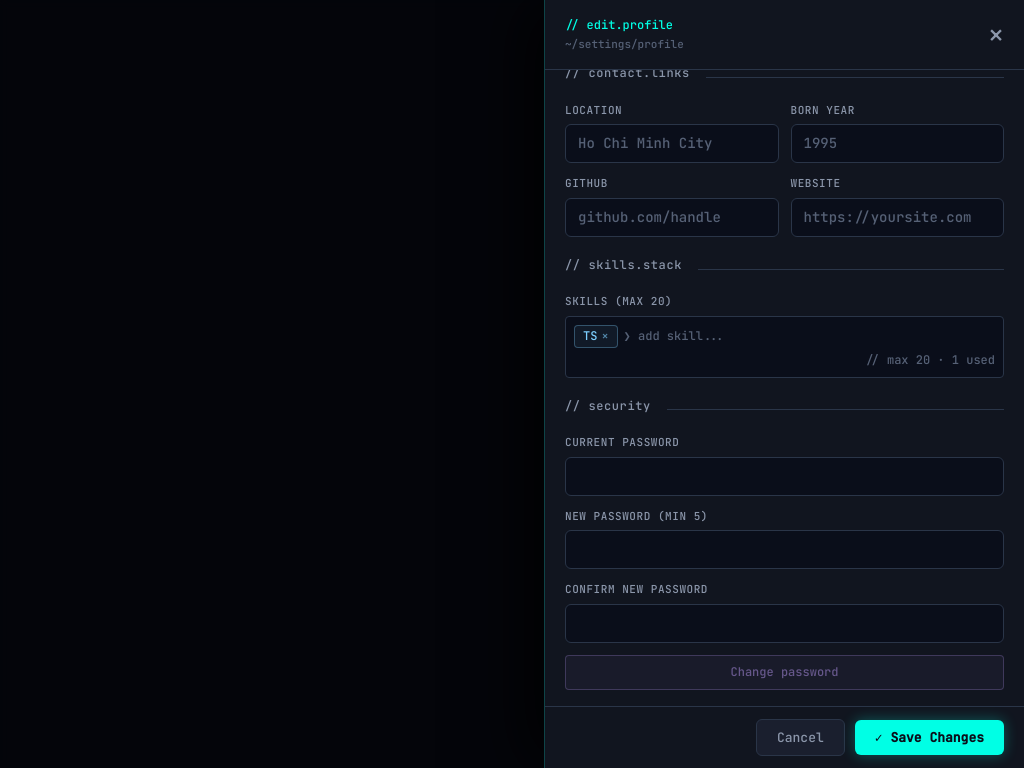
EditProfileDrawer (T-376, T-222, FR-11.3) › Change password — POST /auth/change-password 200 → "password changed" ok banner
(page scrolled)
In the password field labelled "Current password": (784, 476) [565,457,1004,496], type "old"
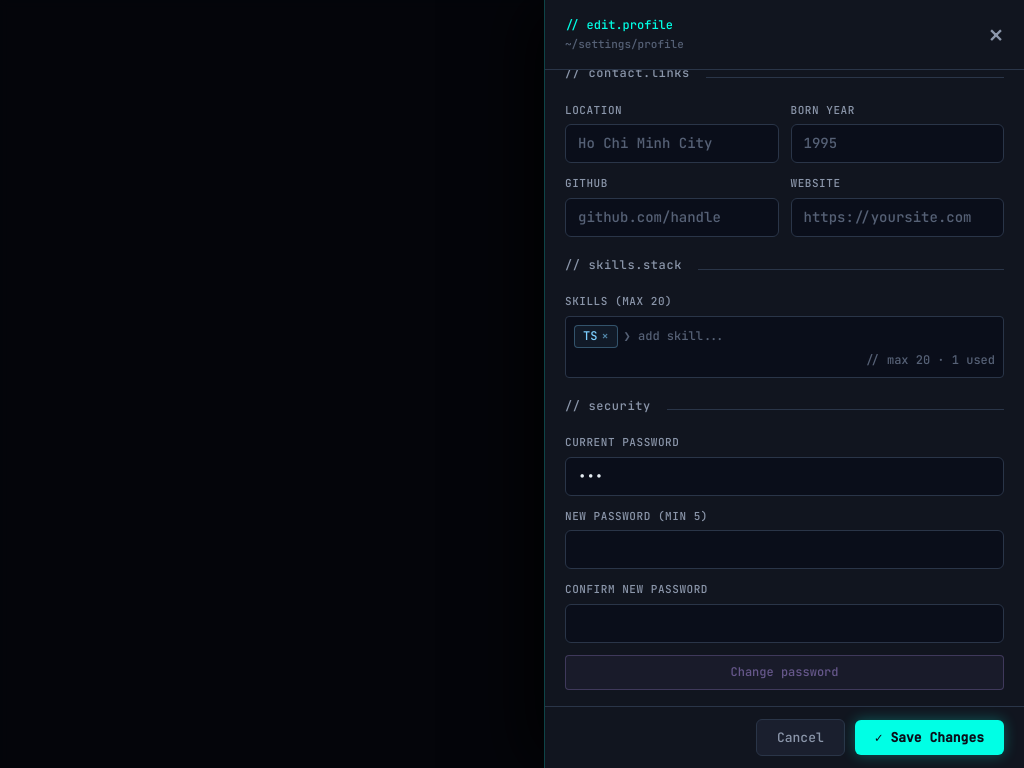
In the password field labelled "New password (min 5)": (784, 550) [565,530,1004,569], type "new-secret-8"
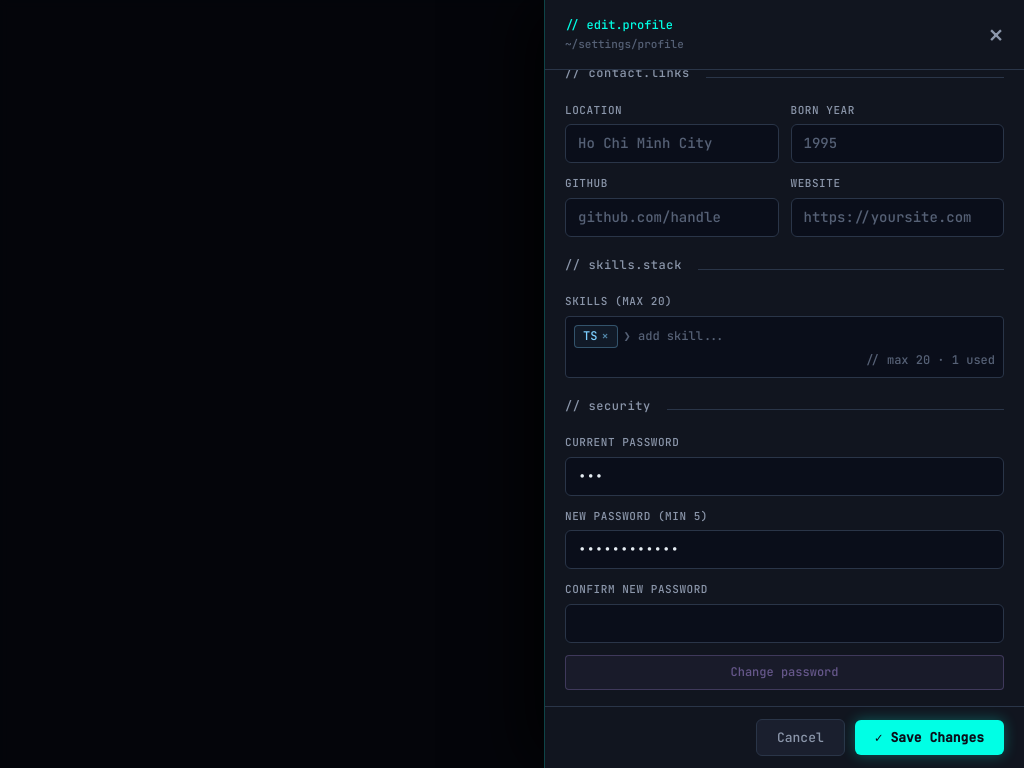
In the password field labelled "Confirm new password": (784, 623) [565,604,1004,643], type "new-secret-8"
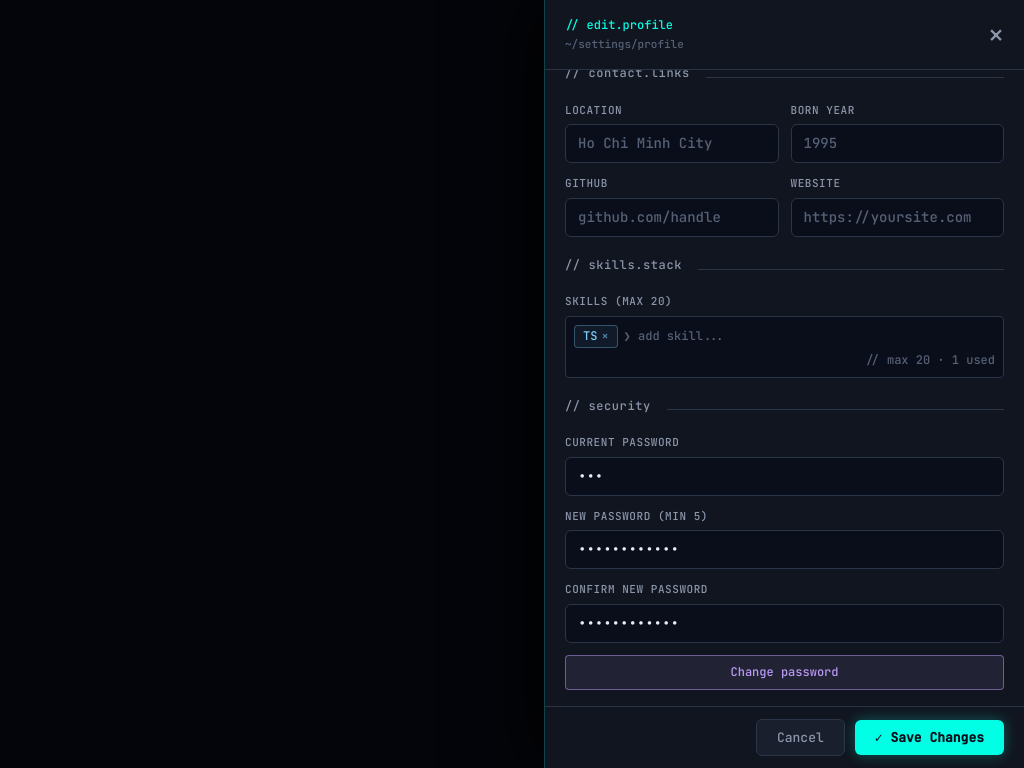
Click the button "Change password": click(784, 672) [565,655,1004,690]
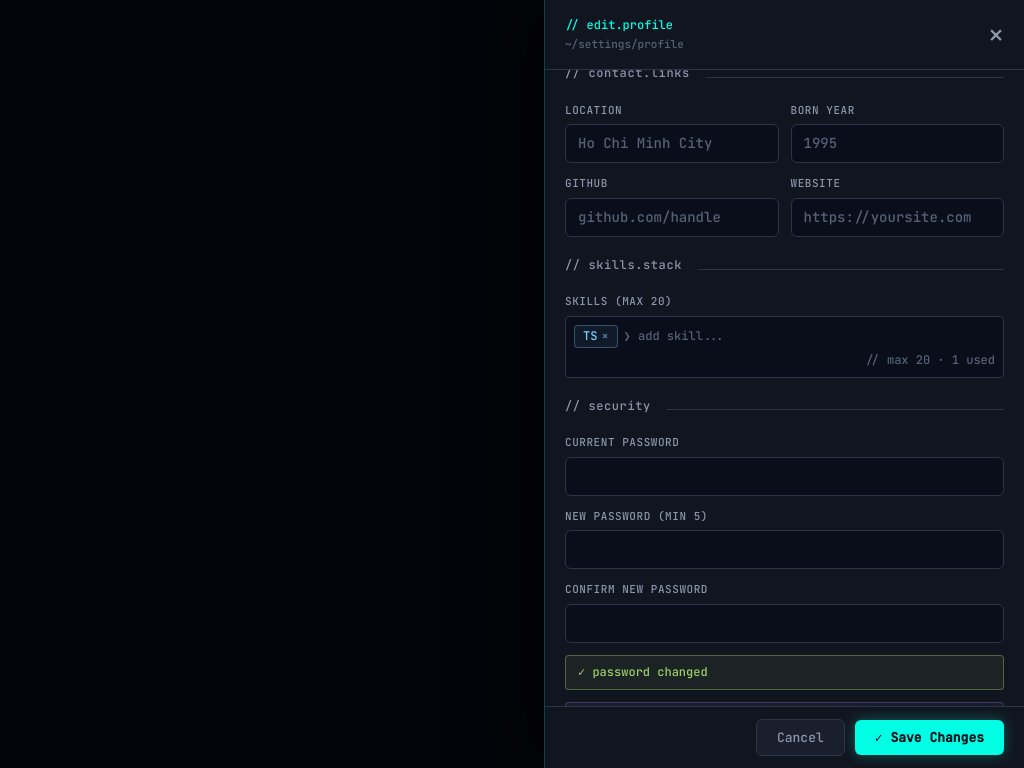
Result: the text "✓ password changed" is shown at [565,655,1004,690]
